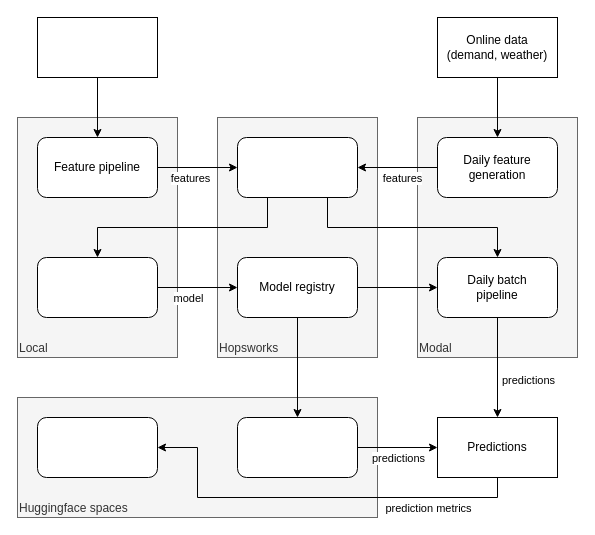
The diagram is 595 pixels wide and 535 high, and some of its shapes have lost their labels. The shapes that lost their labels are listed below. From the top down, each one's centre as x and y in pixels, then its label:
At pixel 97 47: "Historic data (demand, weather)".
At pixel 297 167: "Feature store".
At pixel 97 287: "Training pipeline".
At pixel 97 447: "Monitoring UI".
At pixel 297 447: "Online inference UI".
